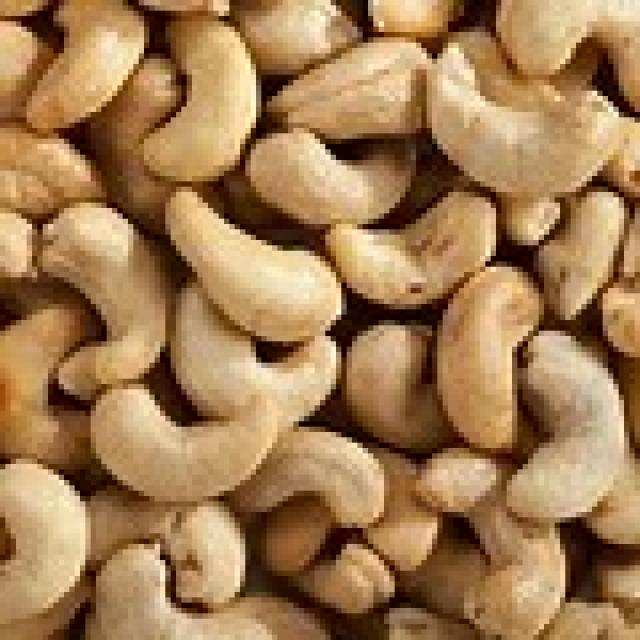Cashew: (444, 66, 623, 195), (175, 206, 336, 349), (94, 372, 284, 491), (423, 250, 525, 450), (58, 200, 164, 372), (85, 544, 272, 640), (236, 118, 407, 216), (453, 464, 544, 640), (27, 6, 160, 123), (529, 331, 616, 500), (0, 466, 88, 618), (168, 14, 239, 180), (299, 45, 442, 121), (292, 424, 384, 511), (344, 317, 413, 429)
